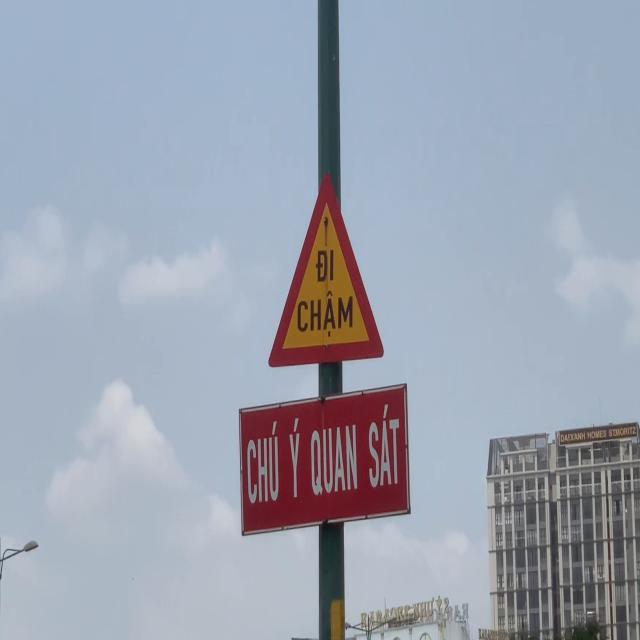Nguy hiem: (268, 168, 386, 370)
